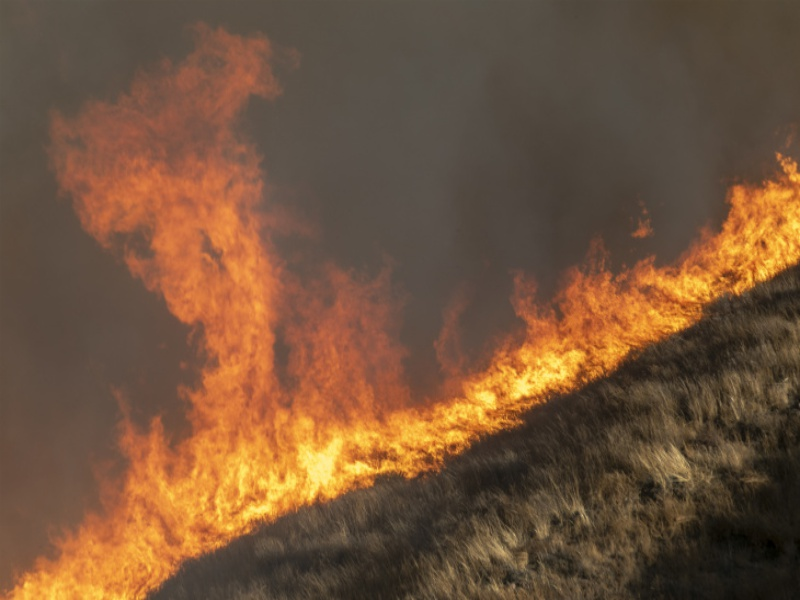fire: (254, 360, 403, 523), (26, 440, 174, 596), (523, 259, 644, 395), (419, 339, 524, 470), (184, 391, 255, 565), (715, 159, 767, 301), (648, 231, 710, 339), (772, 145, 800, 273)
